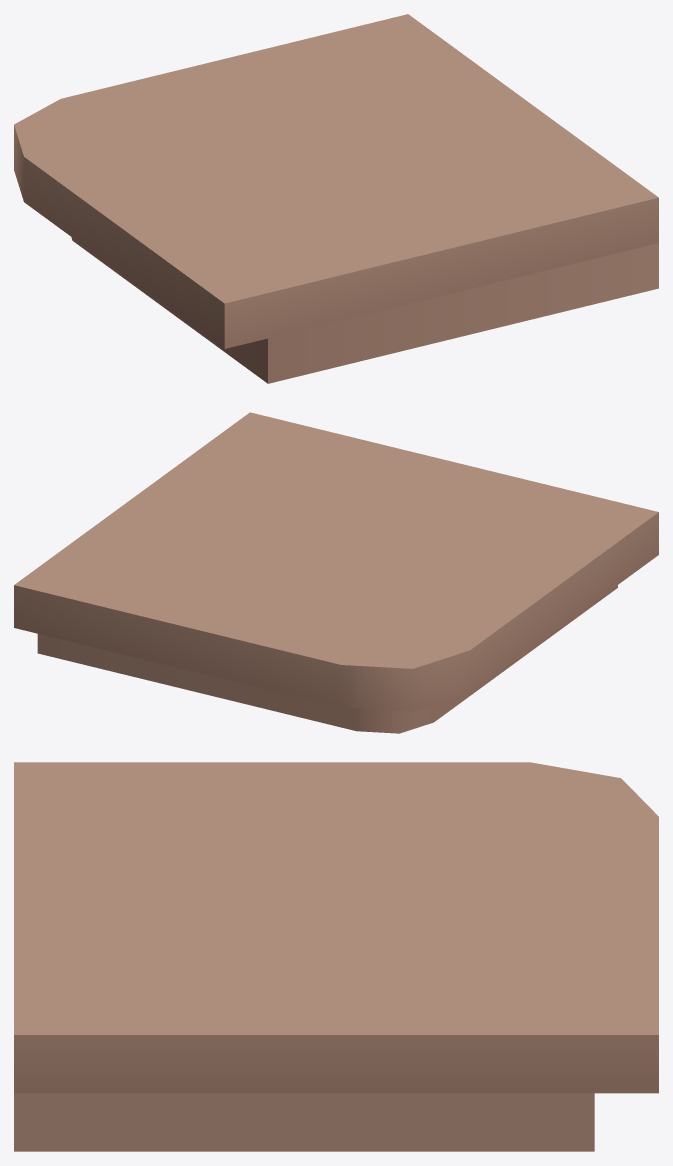
The model's file is surfaces-quarter-surface-rounded-edge.glb.
3 views of the same model, one above another, from view 1: azimuth 30°, elevation 25°; view 2: azimuth 150°, elevation 25°; view 3: azimuth 270°, elevation 25° (orthographic). The views are drawn at different scales.
Parts seen in each view (by area): view 1: surfaces-quarter-surface-rounded-edge; view 2: surfaces-quarter-surface-rounded-edge; view 3: surfaces-quarter-surface-rounded-edge.
Boxes of the visible parts, x1,y1,x2,y2 form: surfaces-quarter-surface-rounded-edge: (14,14,658,383); surfaces-quarter-surface-rounded-edge: (14,412,658,733); surfaces-quarter-surface-rounded-edge: (14,762,658,1151).
Size of the model in its own units: 0.5 by 0.1 by 0.5.
